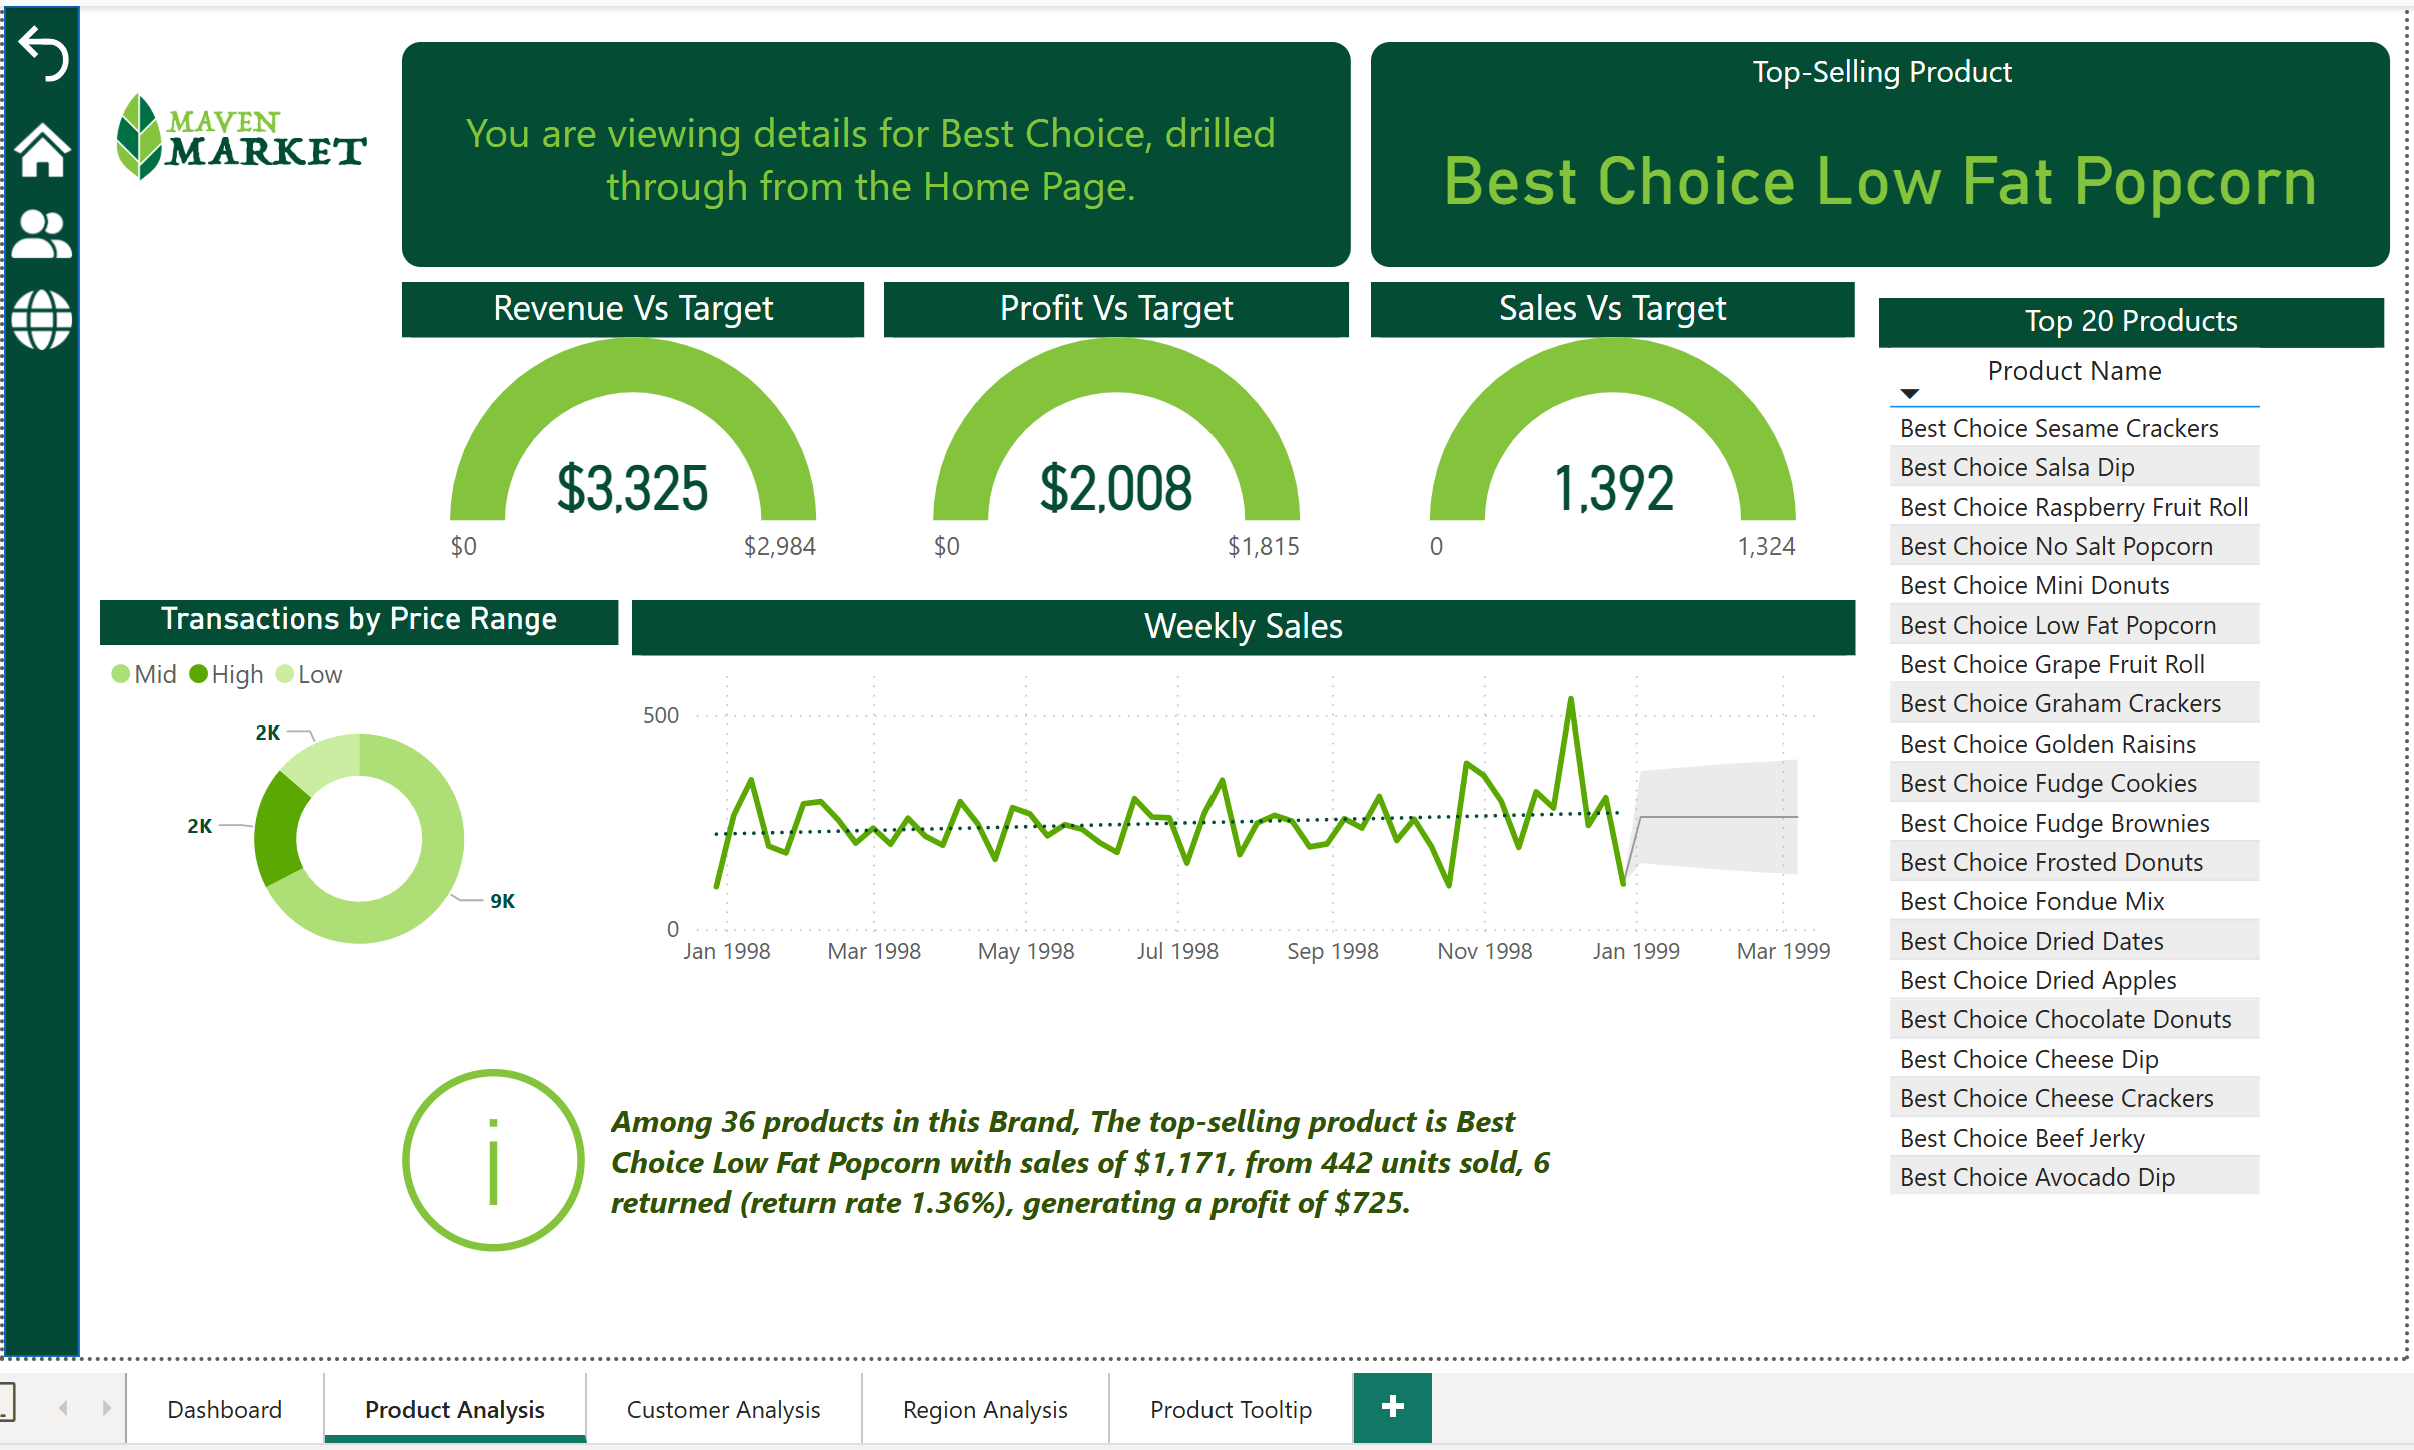

The page's visual inventory and layout, read from the dashboard file:
{"tool":"powerbi","page":{"name":"Product Analysis","canvas":[1280,720],"ordinal":1},"visuals":[{"type":"lineChart","title":"Weekly Sales","fields":{"Y":["Measure Table.Total Quantity Sold"],"Category":["Calendar.Start of Week"]},"box":[335.2,316.8,652,205.1],"z":0},{"type":"card","title":"Top-Selling Product","fields":{"Values":["Min(Products.product_name)"]},"box":[728.1,19.6,543.7,119.8],"z":1000},{"type":"donutChart","title":"Transactions by Price Range","fields":{"Category":["Products.Price_Tier"],"Y":["Sum(Transactions.quantity)"]},"box":[50.7,316.8,276.5,205.1],"z":2000},{"type":"tableEx","title":"Top 20 Products","fields":{"Values":["Products.product_name"]},"box":[999.5,156.2,269.4,551.5],"z":3000},{"type":"card","title":"Selected Sales District","fields":{"Values":["Measure Table.DrillThrough Info"]},"box":[212,19.6,505.7,119.8],"z":4000},{"type":"gauge","title":"Revenue Vs Target","fields":{"Y":["Measure Table.Total Revenue"],"MaxValue":["Measure Table.Revenue Target"]},"box":[212,147.5,246.5,160.1],"z":5000},{"type":"gauge","title":"Sales Vs Target","fields":{"Y":["Measure Table.Total Quantity Sold"],"MaxValue":["Measure Table.Sales Target"]},"box":[728.1,147.5,258,160.1],"z":6000},{"type":"gauge","title":"Profit Vs Target","fields":{"Y":["Measure Table.Total Profit"],"MaxValue":["Measure Table.Profit Target"]},"box":[469.4,147.5,247.7,160.1],"z":7000},{"type":"shape","box":[0,0,40.3,720],"z":8000},{"type":"actionButton","box":[1.2,0,40.3,50.7],"z":9000},{"type":"actionButton","box":[1.2,56.1,39.2,40.3],"z":10000},{"type":"actionButton","box":[0,101.8,40.3,40.3],"z":11000},{"type":"actionButton","box":[0,147.5,40.3,40.3],"z":12000},{"type":"image","box":[50.7,19.6,149.8,100.2],"z":13000},{"type":"actionButton","box":[203.9,555.3,653.2,118.7],"z":14000}]}

Visuals, with their boxes on the page's 1280x720 design canvas (x1, y1, x2, y2). These are canvas units, not pixel positions in the 2414x1450 screenshot, which may show the page scaled, cropped or inside an application window:
"Weekly Sales" lineChart: {"left": 335, "top": 317, "right": 987, "bottom": 522}
"Top-Selling Product" card: {"left": 728, "top": 20, "right": 1272, "bottom": 139}
"Transactions by Price Range" donutChart: {"left": 51, "top": 317, "right": 327, "bottom": 522}
"Top 20 Products" tableEx: {"left": 1000, "top": 156, "right": 1269, "bottom": 708}
"Selected Sales District" card: {"left": 212, "top": 20, "right": 718, "bottom": 139}
"Revenue Vs Target" gauge: {"left": 212, "top": 148, "right": 458, "bottom": 308}
"Sales Vs Target" gauge: {"left": 728, "top": 148, "right": 986, "bottom": 308}
"Profit Vs Target" gauge: {"left": 469, "top": 148, "right": 717, "bottom": 308}
shape: {"left": 0, "top": 0, "right": 40, "bottom": 720}
actionButton: {"left": 1, "top": 0, "right": 42, "bottom": 51}
actionButton: {"left": 1, "top": 56, "right": 40, "bottom": 96}
actionButton: {"left": 0, "top": 102, "right": 40, "bottom": 142}
actionButton: {"left": 0, "top": 148, "right": 40, "bottom": 188}
image: {"left": 51, "top": 20, "right": 200, "bottom": 120}
actionButton: {"left": 204, "top": 555, "right": 857, "bottom": 674}
